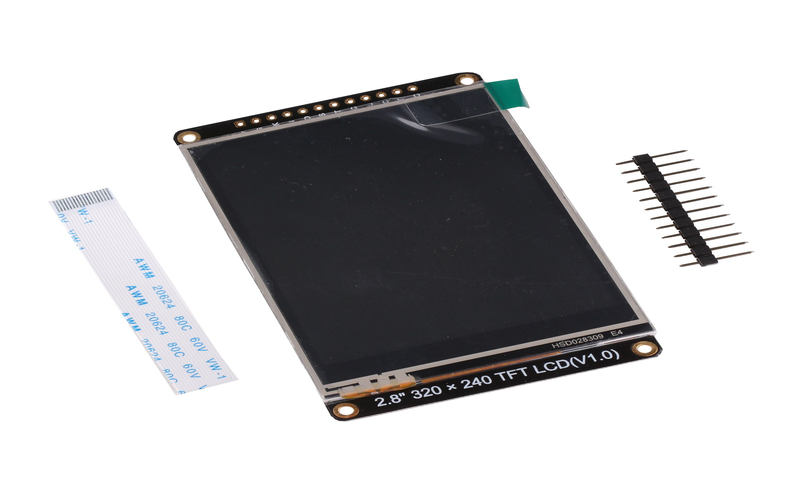LCD: (171, 70, 671, 427)
